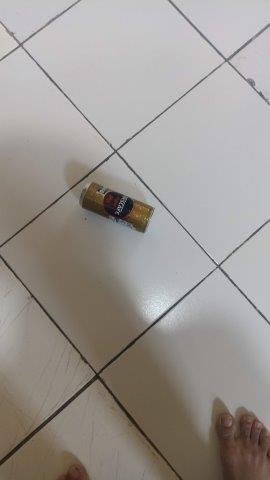kaleng: (81, 183, 157, 237)
